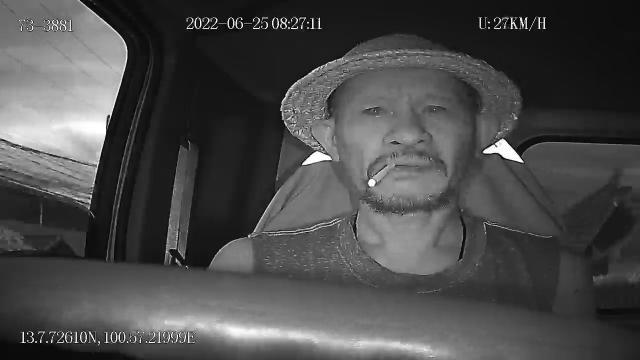SafeDriving: (416, 93, 454, 120), (358, 96, 396, 121)
Smoking: (368, 162, 394, 188)
